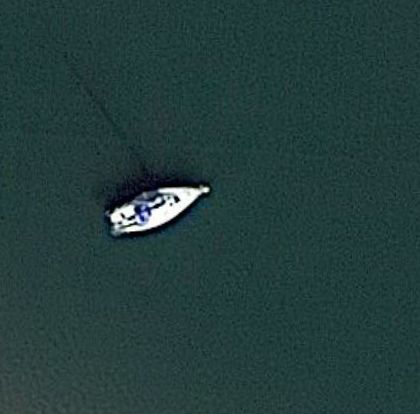boat: (105, 184, 219, 237)
